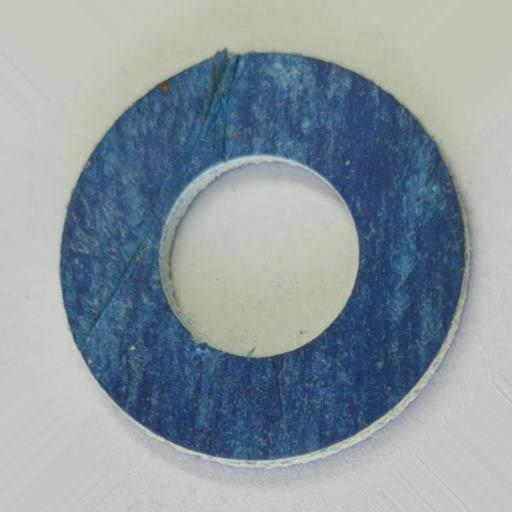defect: (77, 48, 236, 354)
